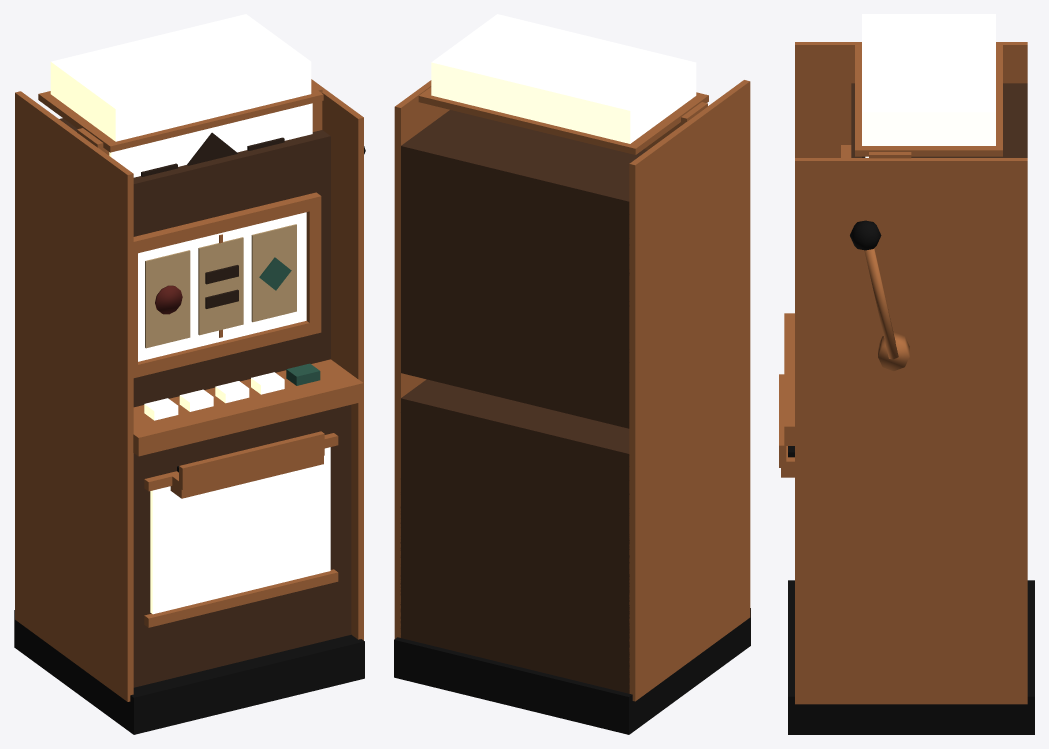
File: slot_cabinet.glb
3 views of the same model, side by side, from view 1: azimuth 30°, elevation 25°; view 2: azimuth 150°, elevation 25°; view 3: azimuth 270°, elevation 25° (orthographic). The views are drawn at different scales.
Parts seen in each view (by area): view 1: slot_cabinet metal, slot_cabinet lamp, slot_cabinet wood, slot_cabinet rubber, slot_cabinet stone, slot_cabinet screen, slot_cabinet sign, slot_cabinet felt, slot_cabinet carpet; view 2: slot_cabinet wood, slot_cabinet metal, slot_cabinet lamp, slot_cabinet rubber; view 3: slot_cabinet metal, slot_cabinet lamp, slot_cabinet rubber, slot_cabinet wood.
Part boxes in pixels (x1,y1,x2,y2): slot_cabinet metal: (15,79,363,701); slot_cabinet lamp: (50,14,330,614); slot_cabinet wood: (59,118,351,687); slot_cabinet rubber: (14,146,365,734); slot_cabinet stone: (145,224,296,348); slot_cabinet screen: (138,212,306,361); slot_cabinet sign: (141,132,284,308); slot_cabinet felt: (259,257,320,385); slot_cabinet carpet: (155,285,182,314); slot_cabinet wood: (400,110,647,693); slot_cabinet metal: (394,80,750,701); slot_cabinet lamp: (431,14,696,143); slot_cabinet rubber: (394,608,750,734); slot_cabinet metal: (779,42,1027,704); slot_cabinet lamp: (862,14,995,157); slot_cabinet rubber: (788,220,1034,734); slot_cabinet wood: (851,83,1027,157).
Size of what is drawn, in the model's own units: 0.914 by 1.92 by 0.725.
